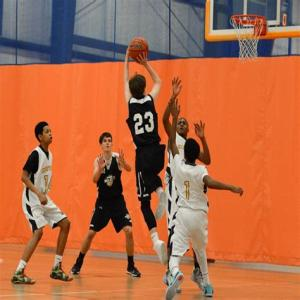Basket: (129, 36, 149, 62)
